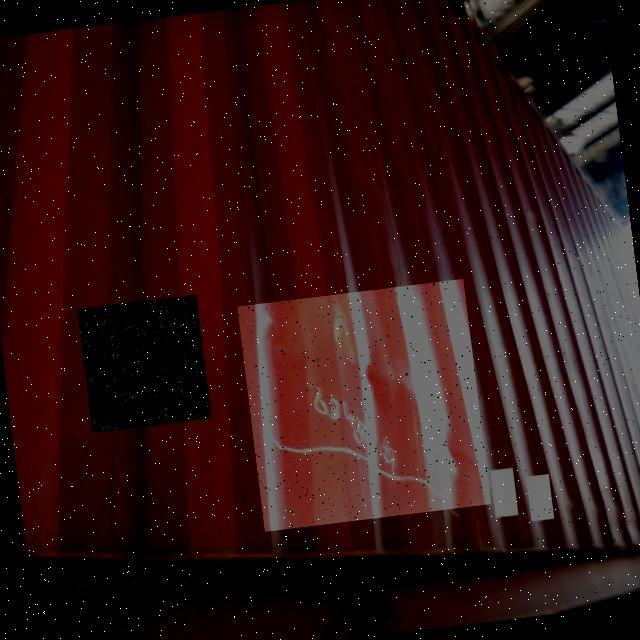Dent: (237, 279, 491, 532)
Minor-Dent: (77, 294, 211, 433)
